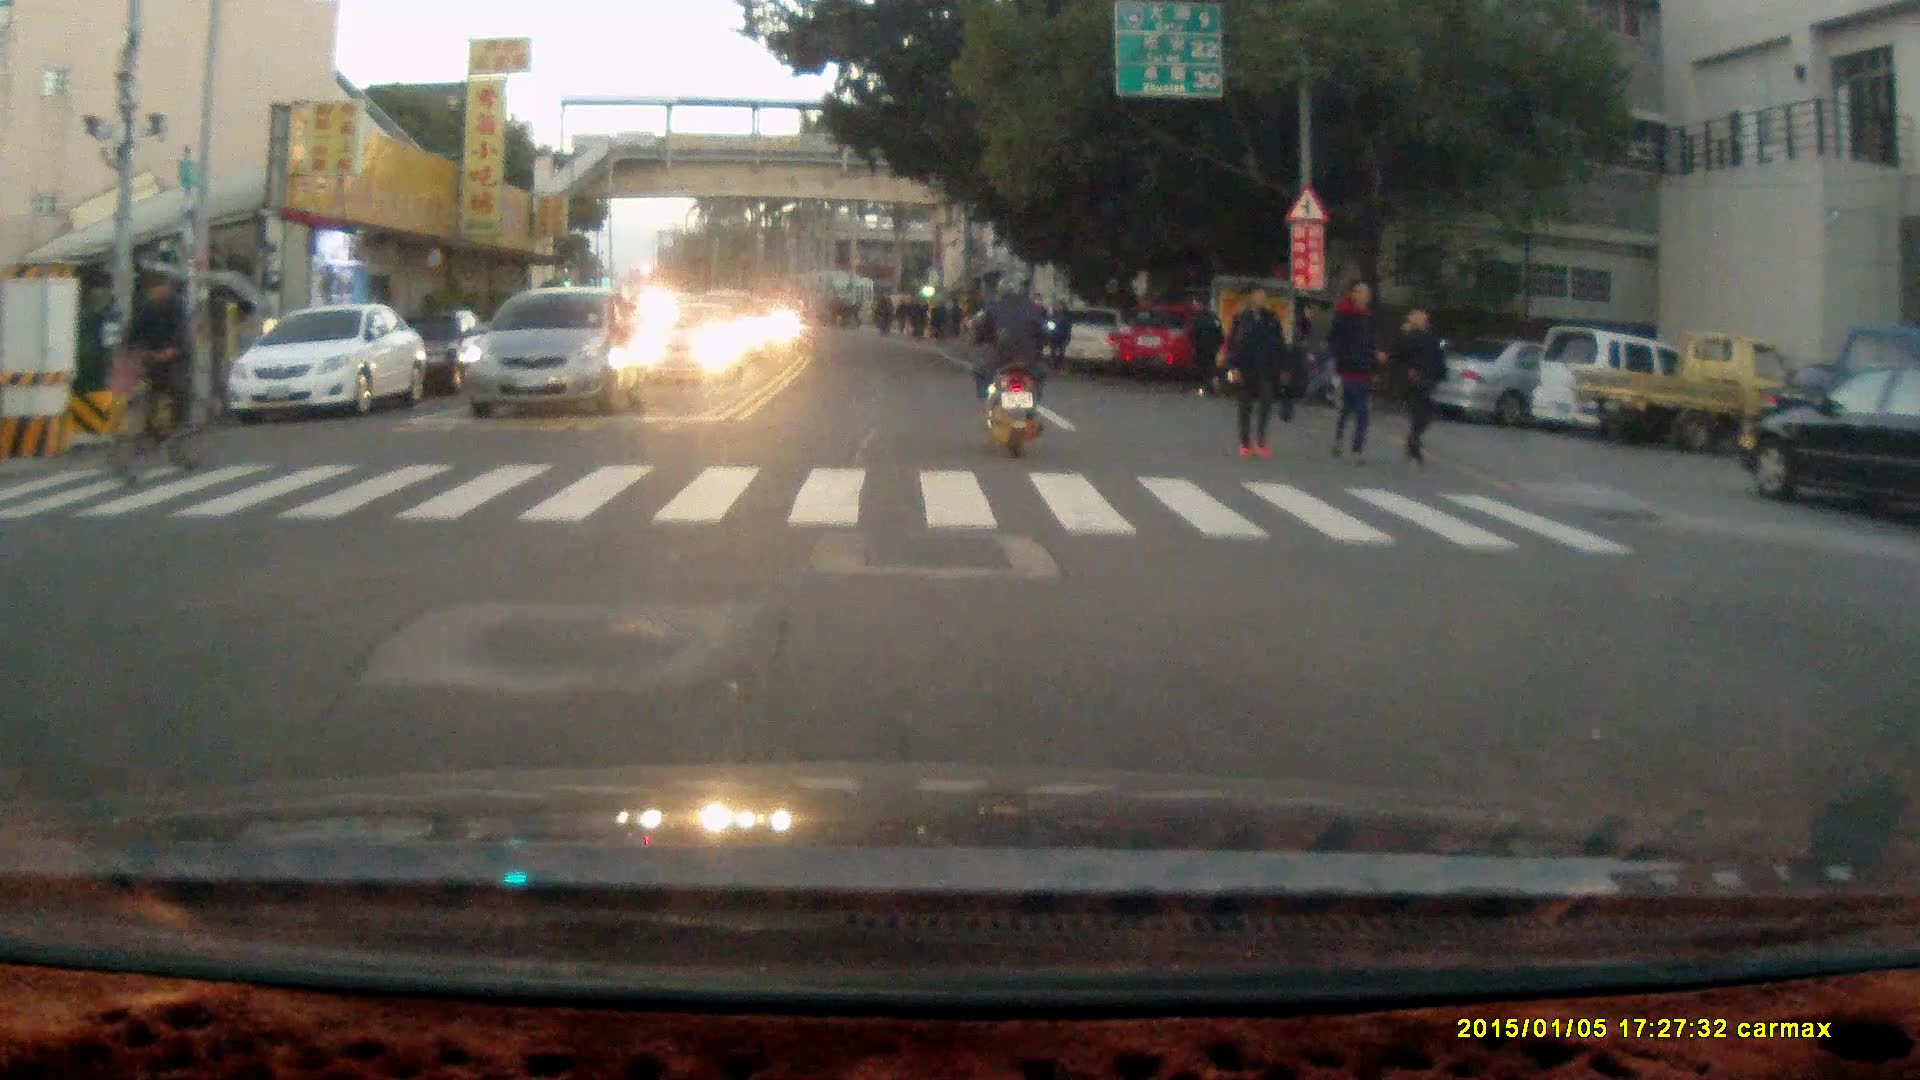pedestrian: (1321, 275, 1386, 474), (1223, 281, 1290, 463), (1392, 306, 1450, 474), (1183, 297, 1221, 404), (1047, 295, 1073, 377)
rider: (102, 269, 213, 493), (962, 277, 1052, 465)
vehicle: (1567, 331, 1808, 452), (1738, 365, 1920, 522), (458, 286, 645, 419), (227, 302, 426, 422), (1418, 335, 1647, 421), (382, 304, 507, 404), (637, 304, 742, 389), (1108, 302, 1212, 381)
